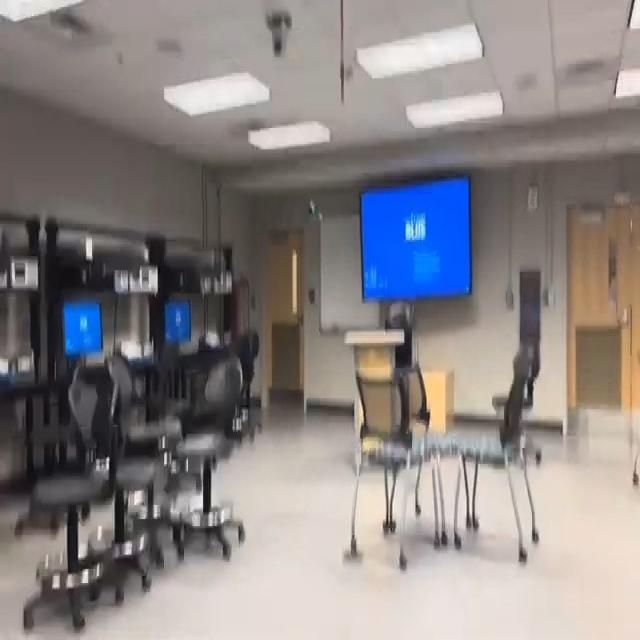drone: (296, 187, 329, 234)
